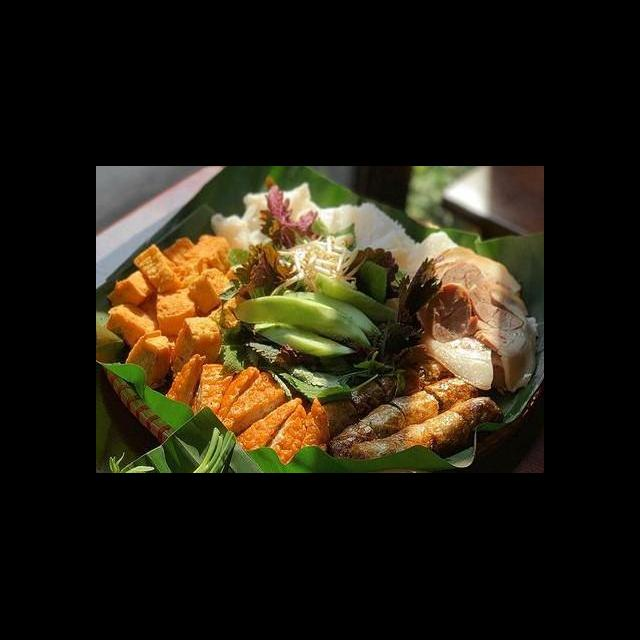bun: (207, 178, 463, 274)
bun dau: (109, 186, 535, 468)
cha com: (155, 350, 333, 470)
dau hu: (102, 222, 250, 394)
doi sun: (319, 357, 508, 468)
thit heo: (404, 235, 540, 398)
